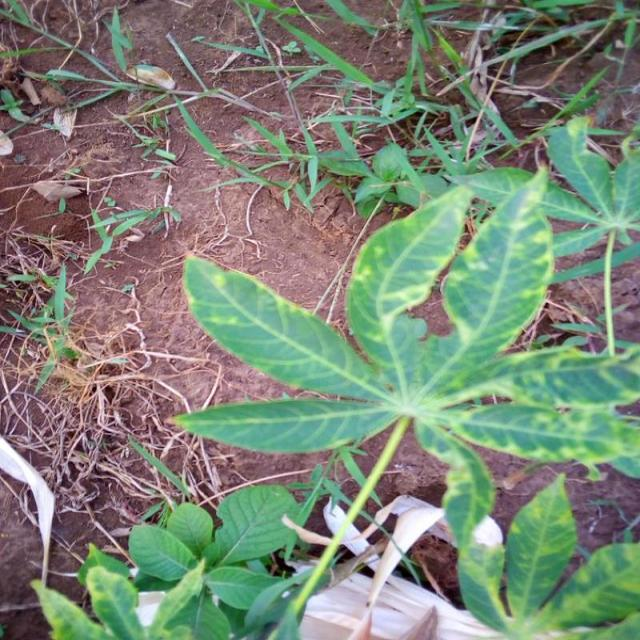cassava leaf: (171, 162, 638, 635), (181, 253, 394, 405), (344, 181, 474, 380)
